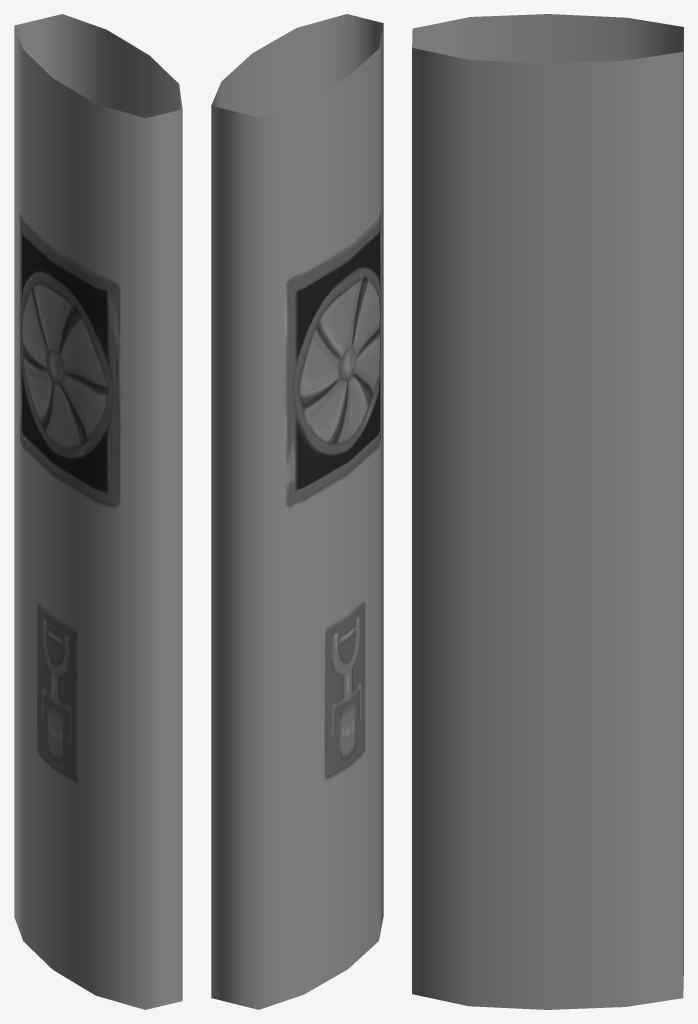
Rendered from AssetTube.fbx.
The picture shows the model from 3 angles, left to right: view 1: azimuth 30°, elevation 25°; view 2: azimuth 150°, elevation 25°; view 3: azimuth 270°, elevation 25°; orthographic projection. The views are drawn at different scales.
Visible parts, largest first — view 1: Pole; view 2: Pole; view 3: Pole.
Part boxes in pixels (x1,y1,x2,y2): Pole: (14,14,182,1009); Pole: (211,14,383,1009); Pole: (412,14,683,1009).
Bounding box in the file's own units: 60.72 × 540 × 141.
